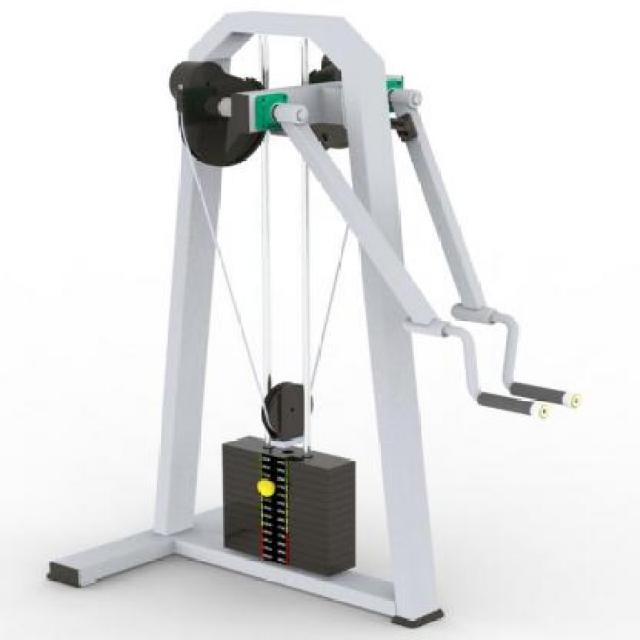lateral raises machine: (52, 11, 583, 626)
